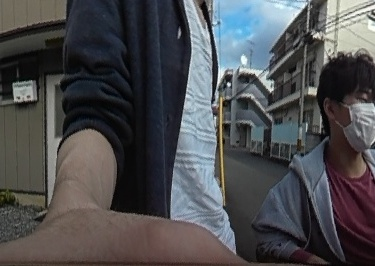person: (252, 52, 375, 266)
